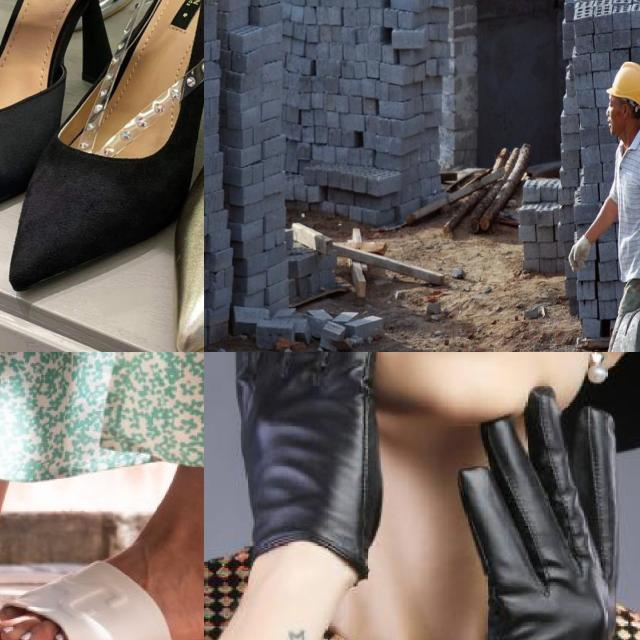No_Ear-Protection: (622, 102, 629, 120)
Sandals: (0, 0, 204, 334), (0, 0, 154, 282), (0, 498, 204, 640), (158, 0, 204, 352)
face_nomask: (293, 352, 602, 419), (606, 108, 622, 135)
hand_glove: (454, 386, 619, 640), (227, 352, 396, 560), (568, 234, 592, 272)
head_helmet: (606, 62, 640, 106)
